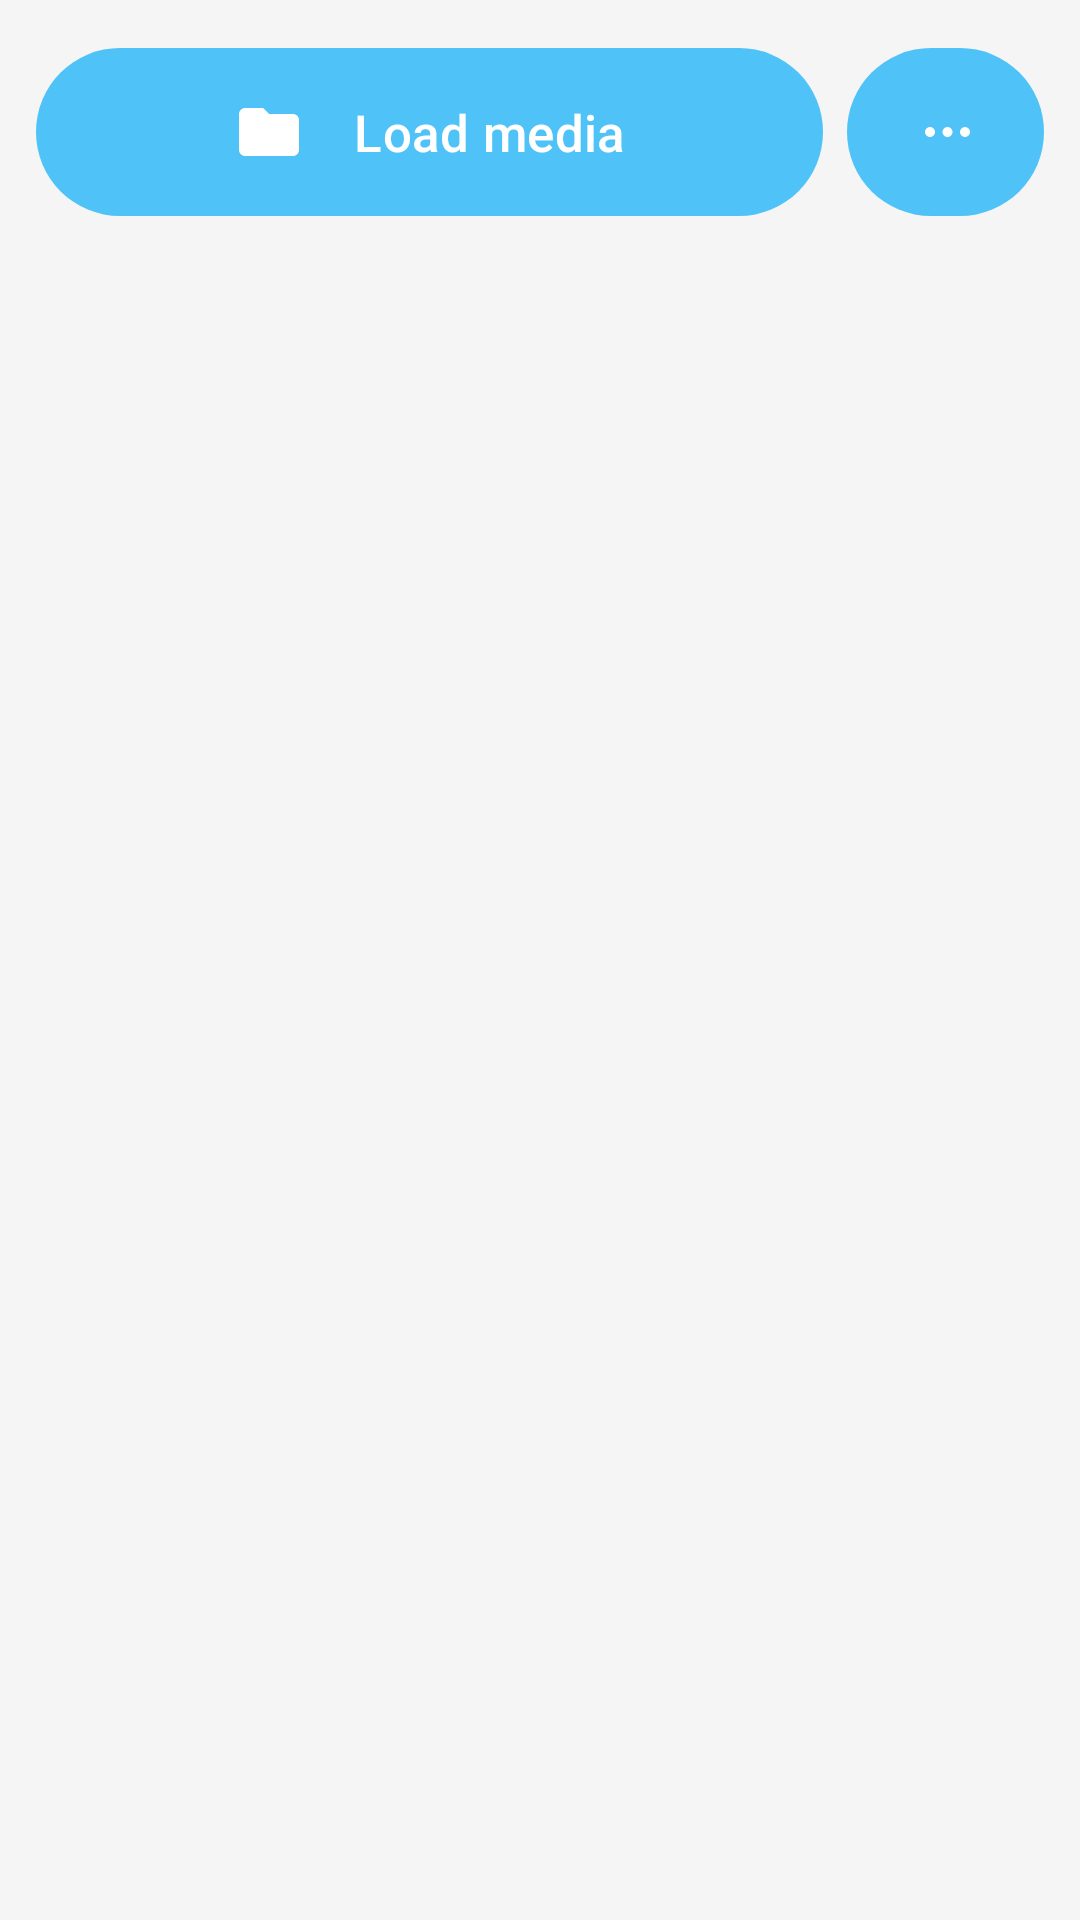

Icon click points for this 1080w x 1920h phone screenshot, format [x,y]:
Load options: [945,132]
